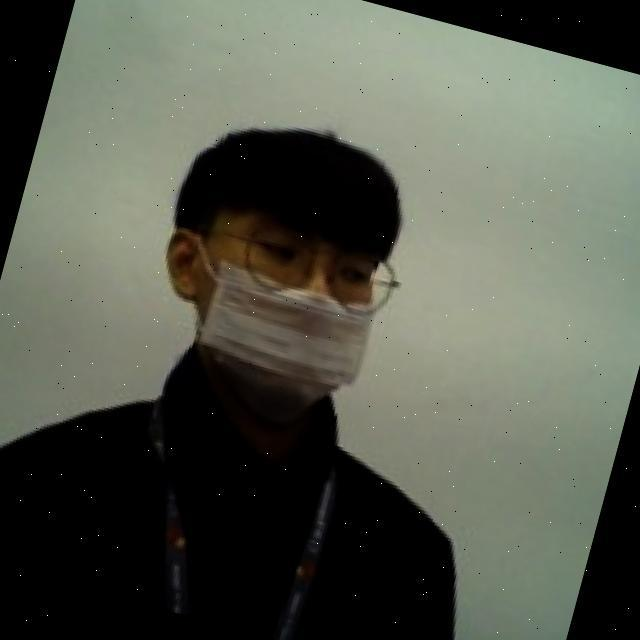mask: (126, 220, 387, 442)
no_gloves: (166, 90, 425, 274)
